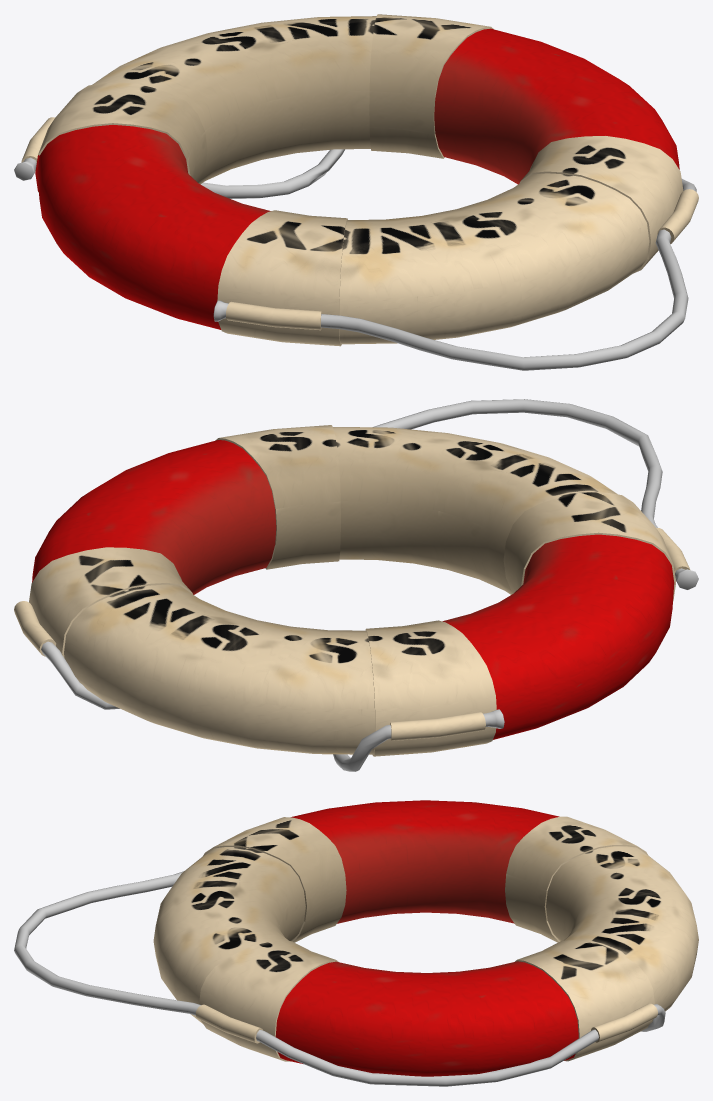
File: Lifering.FBX
The picture shows the model from 3 angles, top to bottom: view 1: azimuth 30°, elevation 25°; view 2: azimuth 150°, elevation 25°; view 3: azimuth 270°, elevation 25°; orthographic projection. The views are drawn at different scales.
Visible parts, largest first — view 1: Torus001, Cylinder005; view 2: Torus001, Cylinder005; view 3: Torus001, Cylinder005.
Boxes of the visible parts, <box> form: Torus001: <box>21,14,698,346</box>; Cylinder005: <box>14,149,696,370</box>; Torus001: <box>14,425,690,756</box>; Cylinder005: <box>41,399,698,771</box>; Torus001: <box>153,800,698,1076</box>; Cylinder005: <box>14,871,665,1086</box>.
Size of the model in its own units: 340 by 68.25 by 427.
